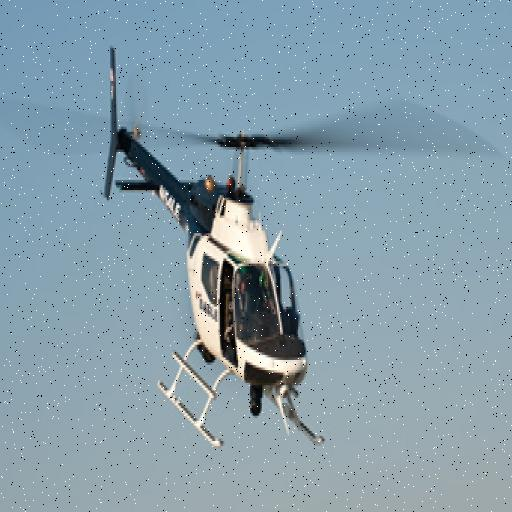helicopter: (102, 47, 403, 452)
